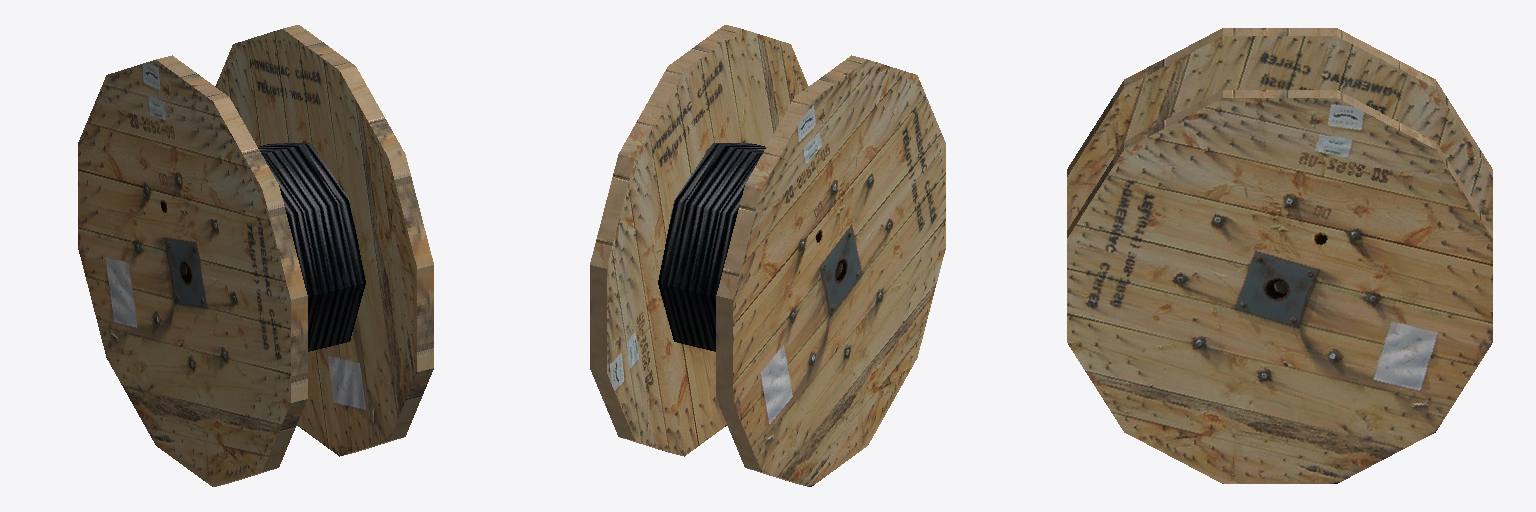
3 renders of one model, left to right at view 1: azimuth 30°, elevation 25°; view 2: azimuth 150°, elevation 25°; view 3: azimuth 270°, elevation 25°, orthographic.
Visible parts, largest first — view 1: Reel; view 2: Reel; view 3: Reel.
Part boxes in pixels (x1,y1,x2,y2): Reel: (78, 25, 433, 486); Reel: (590, 25, 945, 486); Reel: (1067, 28, 1492, 483).
Bounding box in the file's own units: 1.5 × 3.86 × 3.86.
Materials: 1 (1 with a texture image).